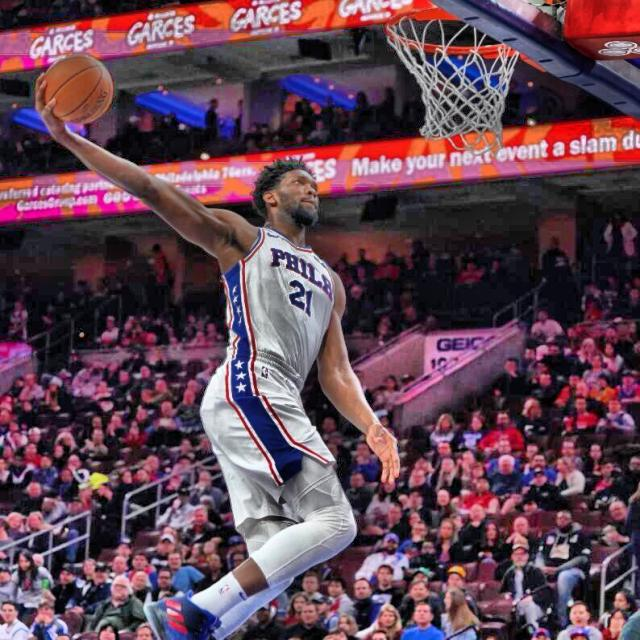board: (44, 57, 115, 126)
rim: (384, 8, 521, 144)
